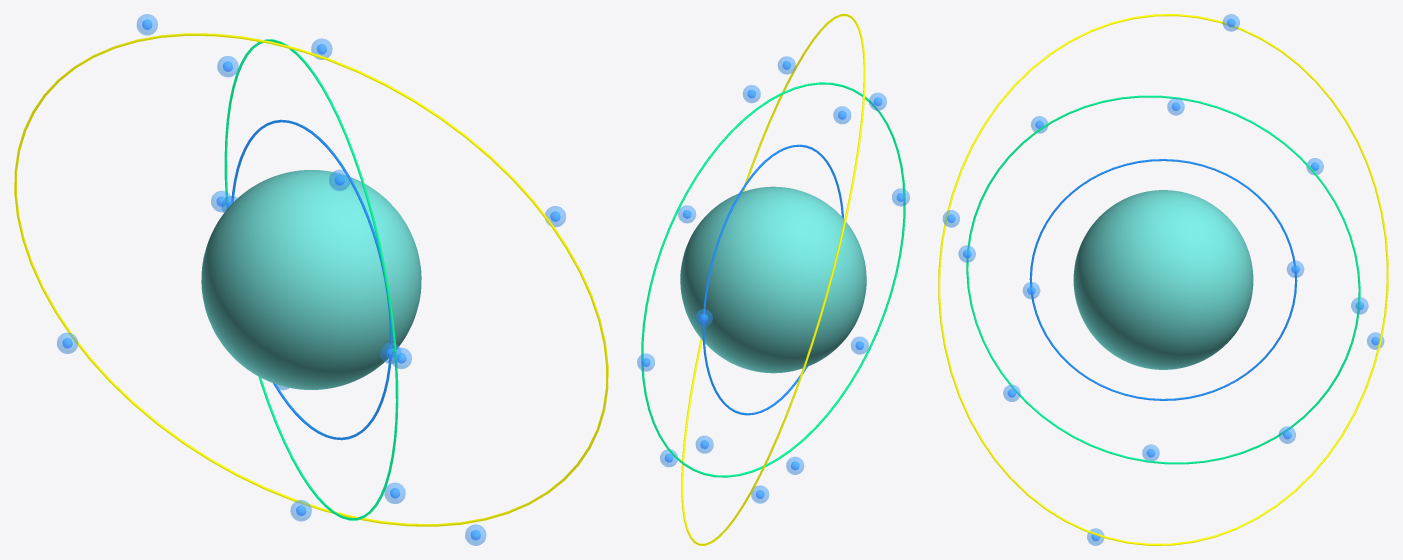
3 renders of one model, left to right at view 1: azimuth 30°, elevation 25°; view 2: azimuth 150°, elevation 25°; view 3: azimuth 270°, elevation 25°, orthographic. The views are drawn at different scales.
Visible parts, largest first — view 1: Si, object 24, object 7, object 2; view 2: Si, object 7, object 24, object 2; view 3: Si, object 24, object 7, object 2.
Boxes of the visible parts, left/top/right/bottom form: Si: left=201, top=170, right=421, bottom=389; object 24: left=14, top=33, right=608, bottom=526; object 7: left=224, top=39, right=398, bottom=520; object 2: left=231, top=119, right=392, bottom=440; Si: left=680, top=186, right=866, bottom=373; object 7: left=641, top=82, right=905, bottom=477; object 24: left=681, top=14, right=865, bottom=545; object 2: left=702, top=144, right=843, bottom=415; Si: left=1073, top=190, right=1253, bottom=369; object 24: left=938, top=14, right=1388, bottom=545; object 7: left=966, top=95, right=1360, bottom=464; object 2: left=1029, top=159, right=1297, bottom=400.
Bounding box in the file's own units: 3.01 × 4.56 × 4.08.
